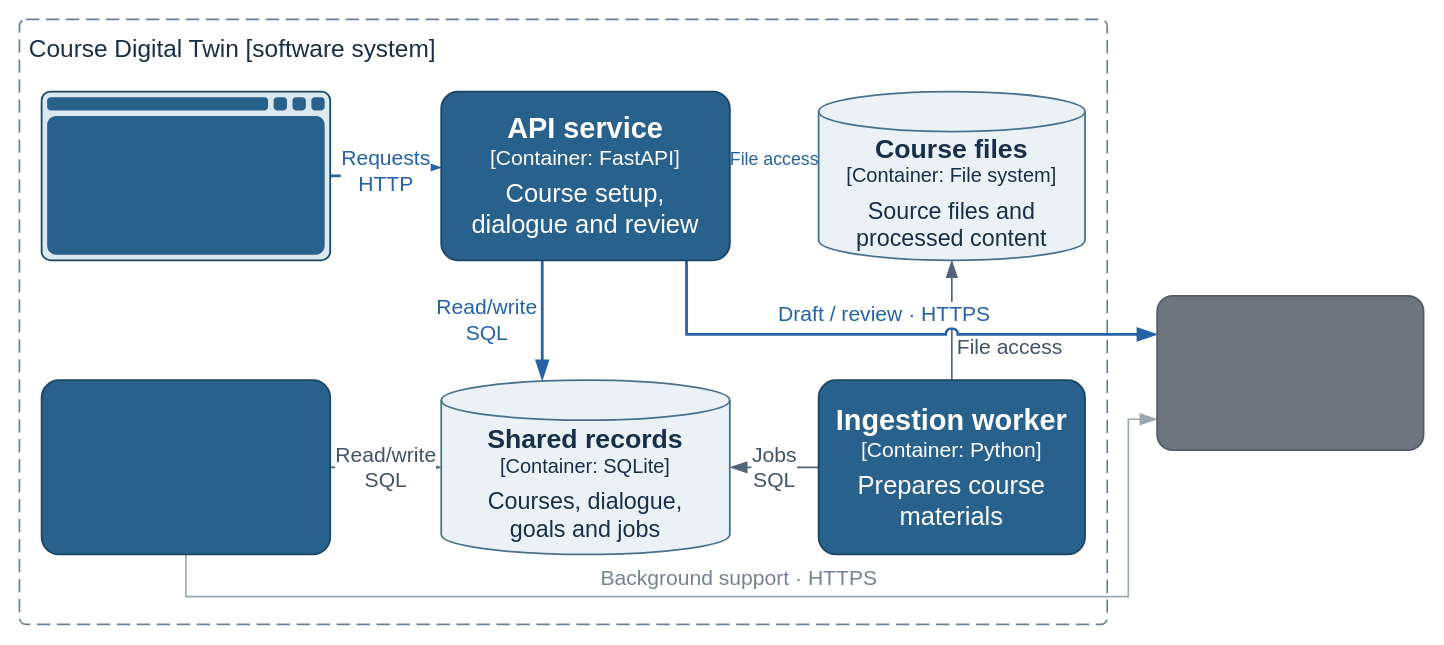
Some shapes in this 1444 by 645 pixel diagram are drawn without their labels. The centre of each missing label's shape, as x and y in pixels:
"OpenAI API [External system] Drafts and reviews teaching responses" goes at (x=1290, y=372).
"Support worker [Container: Python] Checks activity; runs support jobs" goes at (x=185, y=467).
"Web application [Container: React] Professor / student screens" goes at (x=185, y=175).
